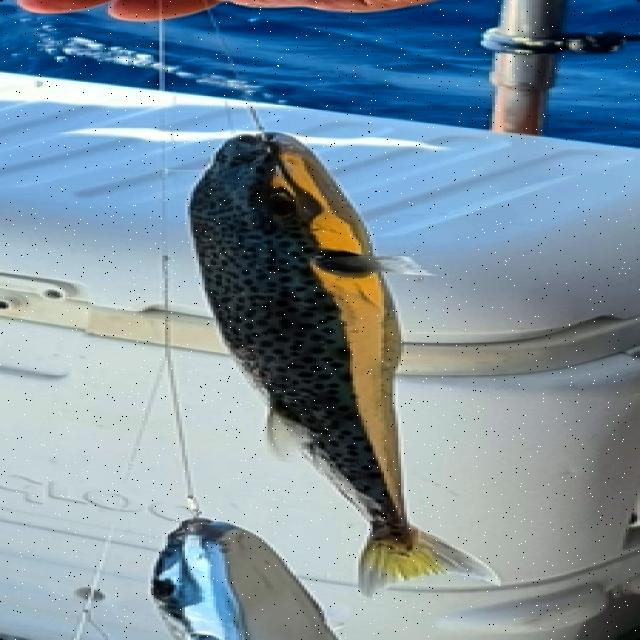Balik: (191, 134, 497, 593), (151, 519, 335, 639)
